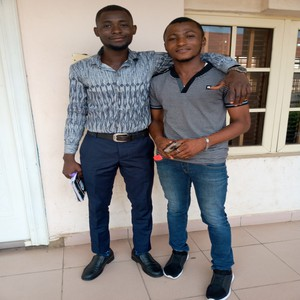Fulokoja_male_student: (65, 5, 164, 279), (161, 13, 238, 300)
